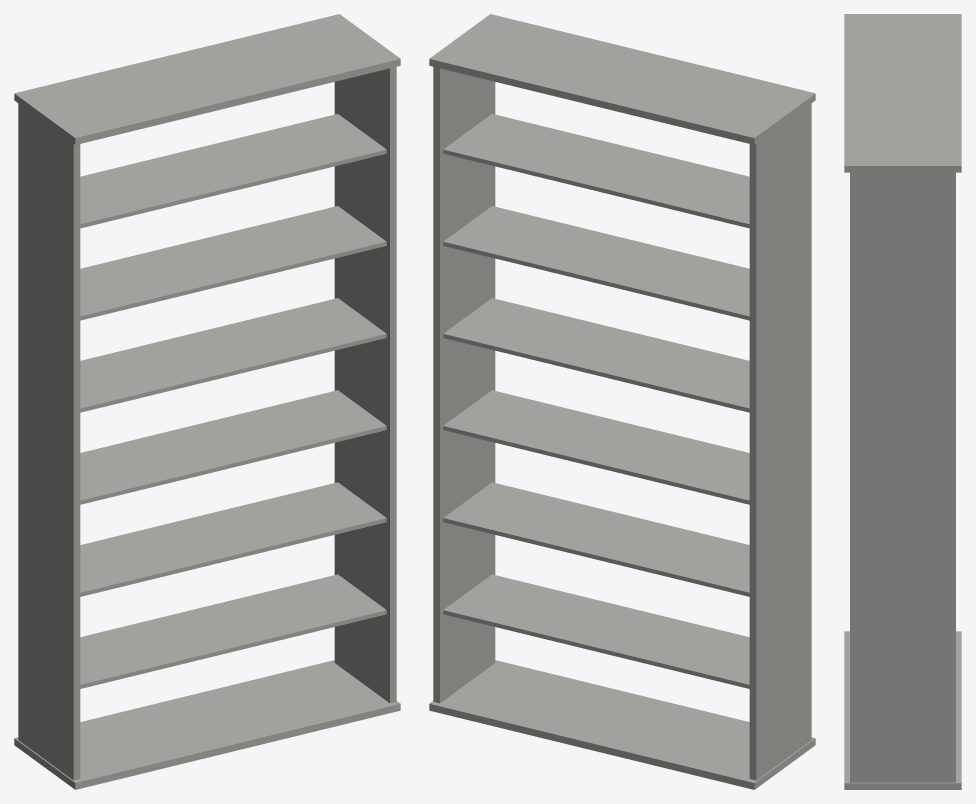
File: home_bookshelf.fbx
3 views of the same model, side by side, from view 1: azimuth 30°, elevation 25°; view 2: azimuth 150°, elevation 25°; view 3: azimuth 270°, elevation 25° (orthographic). The views are drawn at different scales.
Visible parts, largest first — view 1: home_bookshelf; view 2: home_bookshelf; view 3: home_bookshelf.
Boxes of the visible parts, x1,y1,x2,y2 form: home_bookshelf: (14, 14, 400, 789); home_bookshelf: (429, 14, 815, 789); home_bookshelf: (844, 14, 961, 789).
Size of the model in its own units: 0.9925 by 1.9 by 0.3237.
